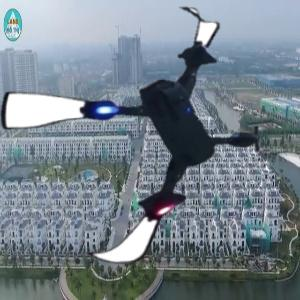drone: (1, 5, 278, 282)
